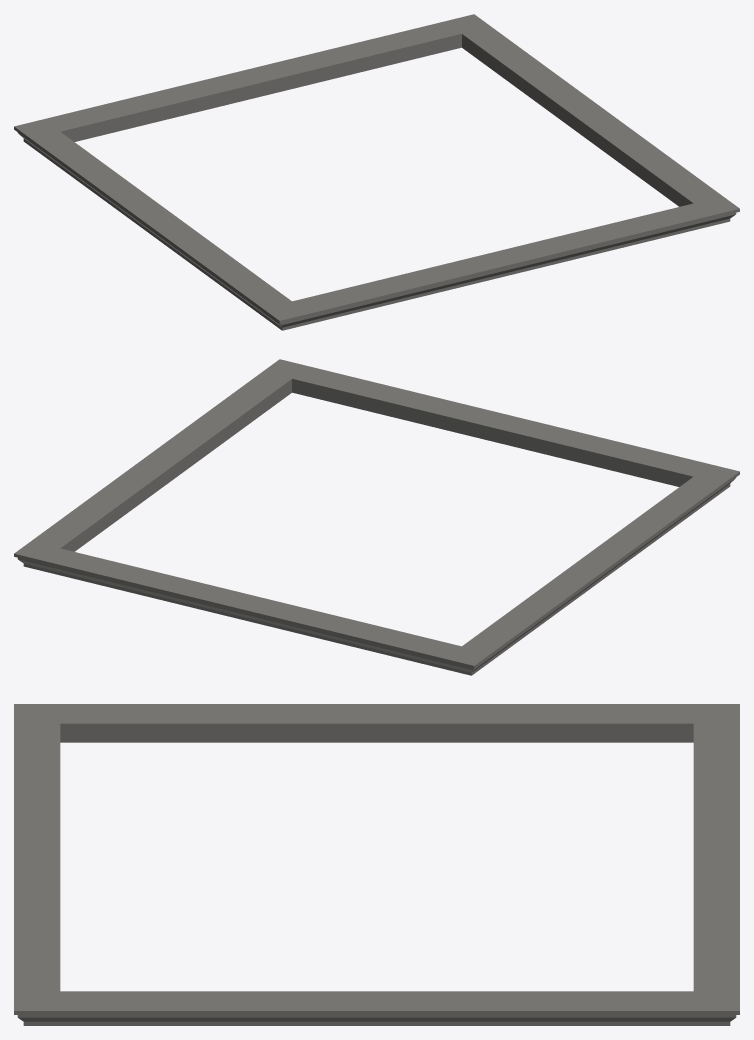
Rendered from SM_Bldg_City_High-Rise_02_03_Cornice_02.fbx.
The picture shows the model from 3 angles, top to bottom: view 1: azimuth 30°, elevation 25°; view 2: azimuth 150°, elevation 25°; view 3: azimuth 270°, elevation 25°; orthographic projection. The views are drawn at different scales.
Visible parts, largest first — view 1: SM_Bldg_City_High-Rise_02&03_Cornice_02; view 2: SM_Bldg_City_High-Rise_02&03_Cornice_02; view 3: SM_Bldg_City_High-Rise_02&03_Cornice_02.
Boxes of the visible parts, x1,y1,x2,y2 form: SM_Bldg_City_High-Rise_02&03_Cornice_02: (14,14,739,330); SM_Bldg_City_High-Rise_02&03_Cornice_02: (14,359,739,675); SM_Bldg_City_High-Rise_02&03_Cornice_02: (14,704,739,1025).
Bounding box in the file's own units: 1582 × 45.75 × 1582.
